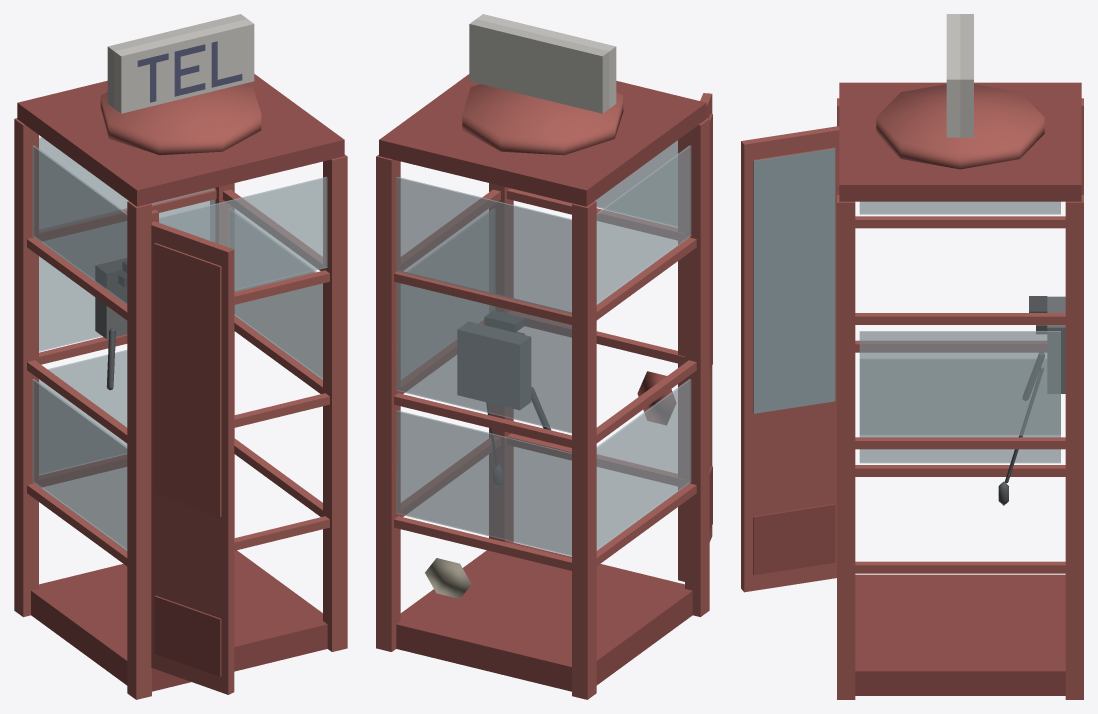
The model's file is cabine_telefonica.glb.
3 renders of one model, left to right at view 1: azimuth 30°, elevation 25°; view 2: azimuth 150°, elevation 25°; view 3: azimuth 270°, elevation 25°, orthographic.
Parts seen in each view (by area): view 1: cabine, cabine_vidros, cabine_porta, cabine_placa, telefone; view 2: cabine, cabine_vidros, cabine_placa, telefone, cabine_porta; view 3: cabine, cabine_porta, cabine_vidros, cabine_placa, telefone.
Boxes of the visible parts, x1=… form: cabine: x1=14, y1=74, x2=347, y2=699; cabine_vidros: x1=32, y1=137, x2=327, y2=550; cabine_porta: x1=151, y1=221, x2=234, y2=694; cabine_placa: x1=107, y1=14, x2=254, y2=113; telefone: x1=95, y1=258, x2=127, y2=390; cabine: x1=376, y1=74, x2=709, y2=699; cabine_vidros: x1=396, y1=140, x2=691, y2=556; cabine_placa: x1=469, y1=14, x2=616, y2=113; telefone: x1=457, y1=310, x2=550, y2=486; cabine_porta: x1=700, y1=93, x2=712, y2=541; cabine: x1=837, y1=82, x2=1083, y2=699; cabine_porta: x1=741, y1=126, x2=839, y2=592; cabine_vidros: x1=859, y1=201, x2=1060, y2=463; cabine_placa: x1=946, y1=14, x2=973, y2=137; telefone: x1=998, y1=296, x2=1065, y2=505.
Bounding box in the file's own units: 1.08 × 2.9 × 1.5.
